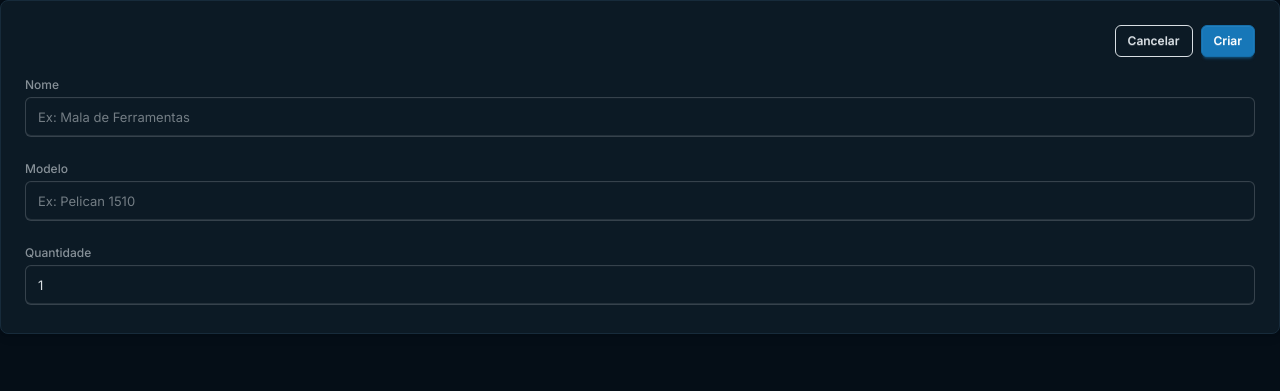
Test: shows validation error when submitting empty Nome
Click the button "Criar": x=1228, y=41 [1200,25,1255,57]
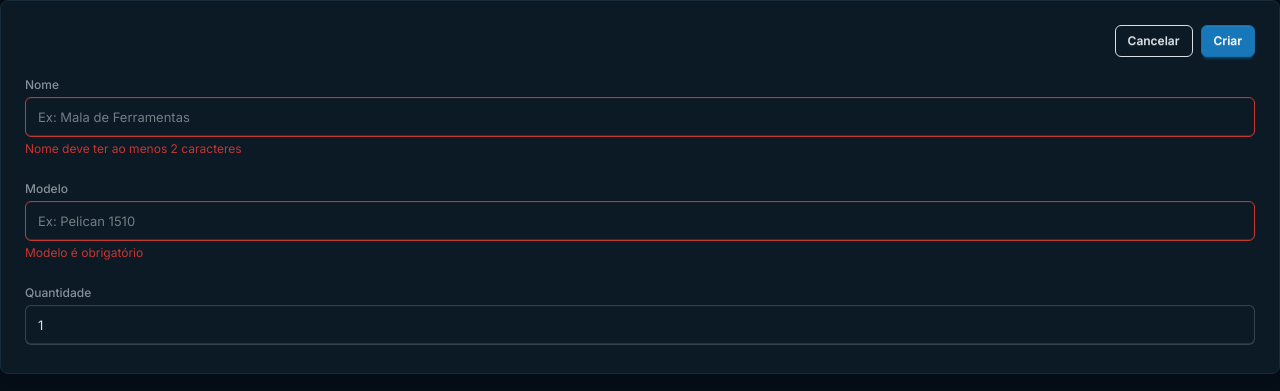
Expected: the text "Nome deve ter ao menos 2 caracteres" is shown, [25,141,242,156]
